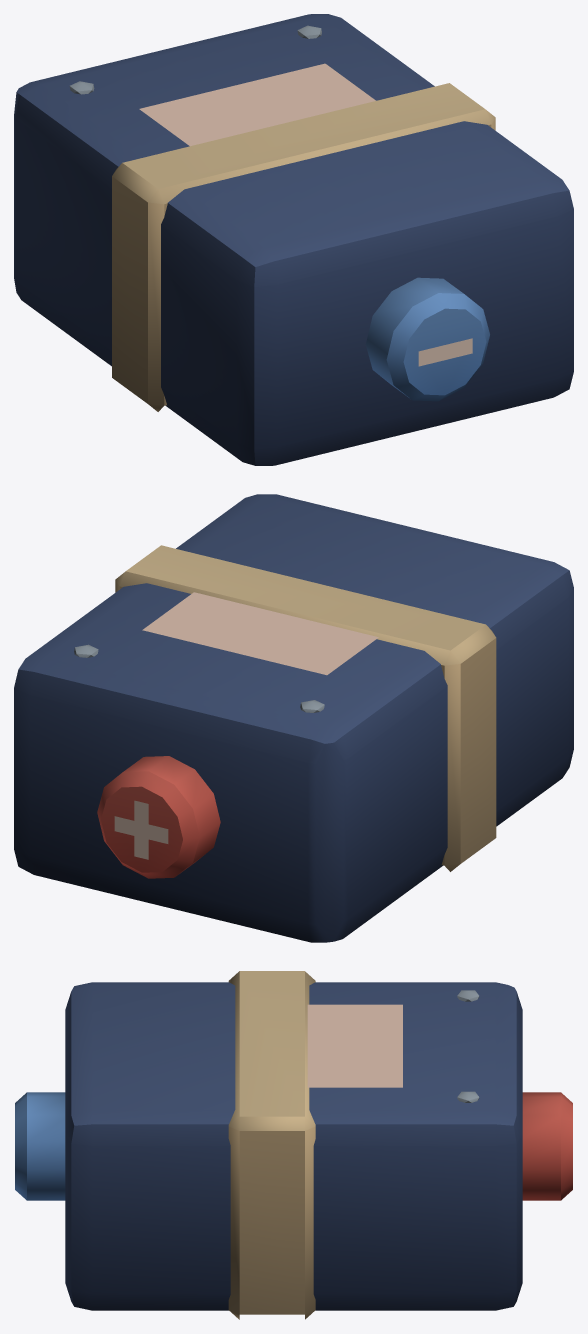
File: ruins-pc-battery-low.glb
The picture shows the model from 3 angles, top to bottom: view 1: azimuth 30°, elevation 25°; view 2: azimuth 150°, elevation 25°; view 3: azimuth 270°, elevation 25°; orthographic projection. The views are drawn at different scales.
Visible parts, largest first — view 1: 0_ruins_pc_battery; view 2: 0_ruins_pc_battery; view 3: 0_ruins_pc_battery.
Boxes of the visible parts, x1,y1,x2,y2 form: 0_ruins_pc_battery: (14,14,573,465); 0_ruins_pc_battery: (14,494,573,942); 0_ruins_pc_battery: (15,971,572,1319).
Size of the model in its own units: 0.336 by 0.208 by 0.514.
